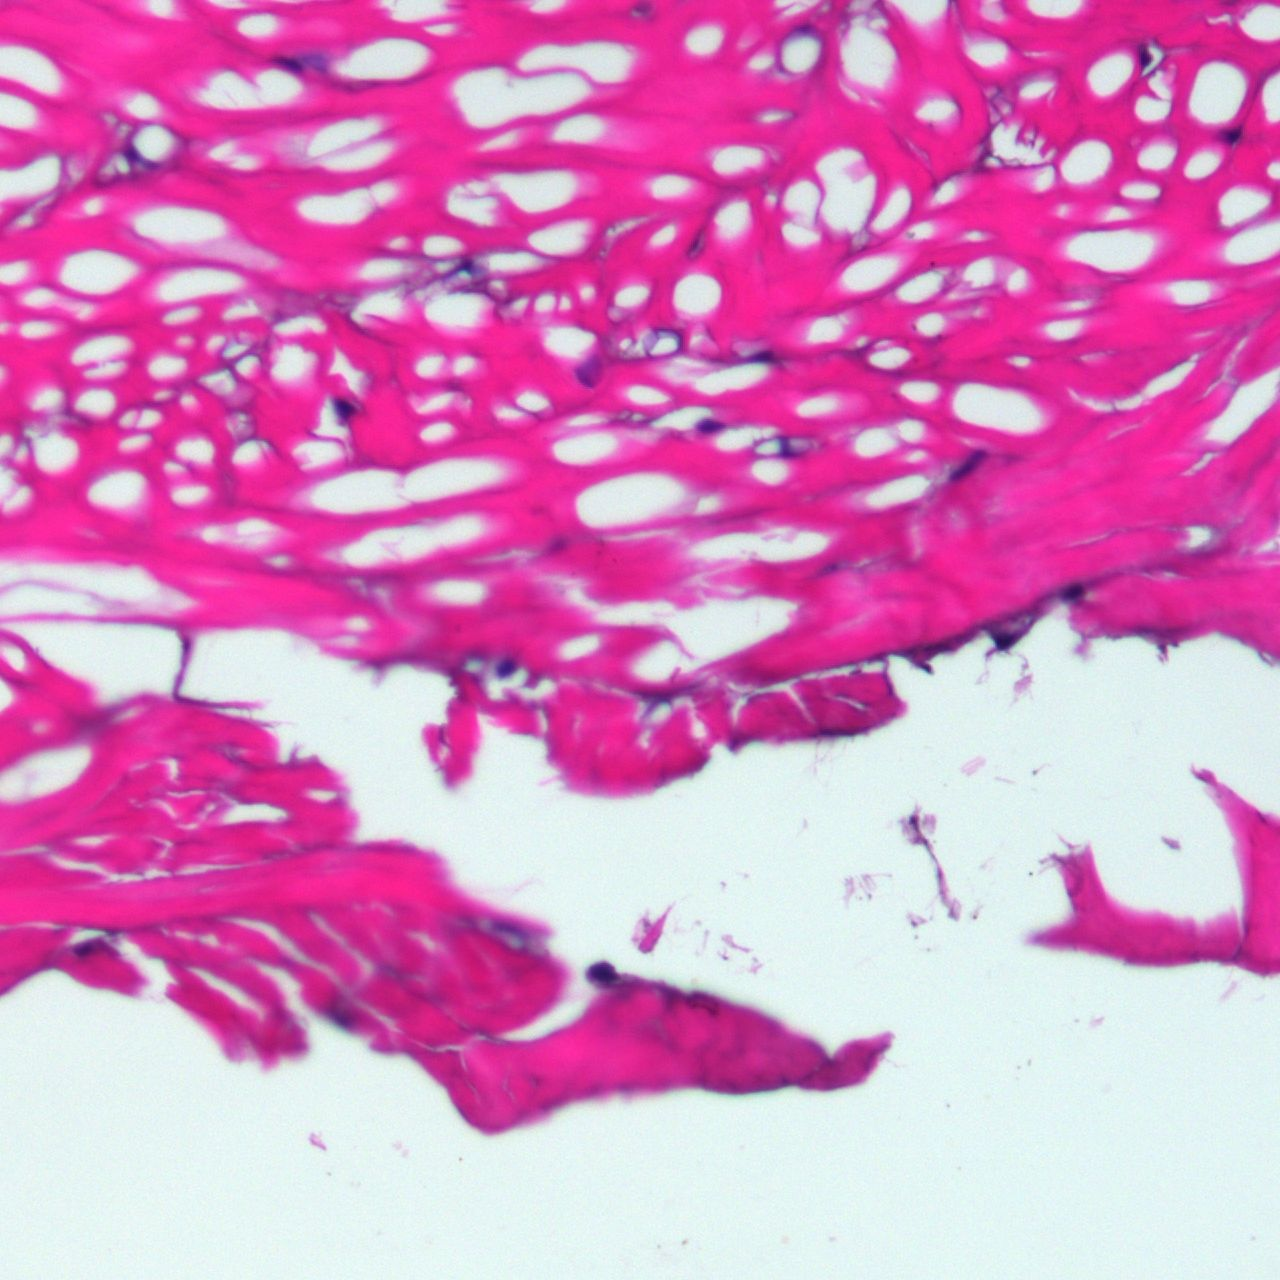nucleus-HE: (951, 445, 987, 482), (274, 52, 304, 74), (1062, 581, 1085, 601), (1224, 124, 1244, 147), (335, 397, 354, 420), (590, 965, 613, 982), (994, 633, 1016, 649), (74, 942, 95, 959), (697, 418, 720, 433), (497, 660, 515, 678), (1139, 49, 1151, 66)
